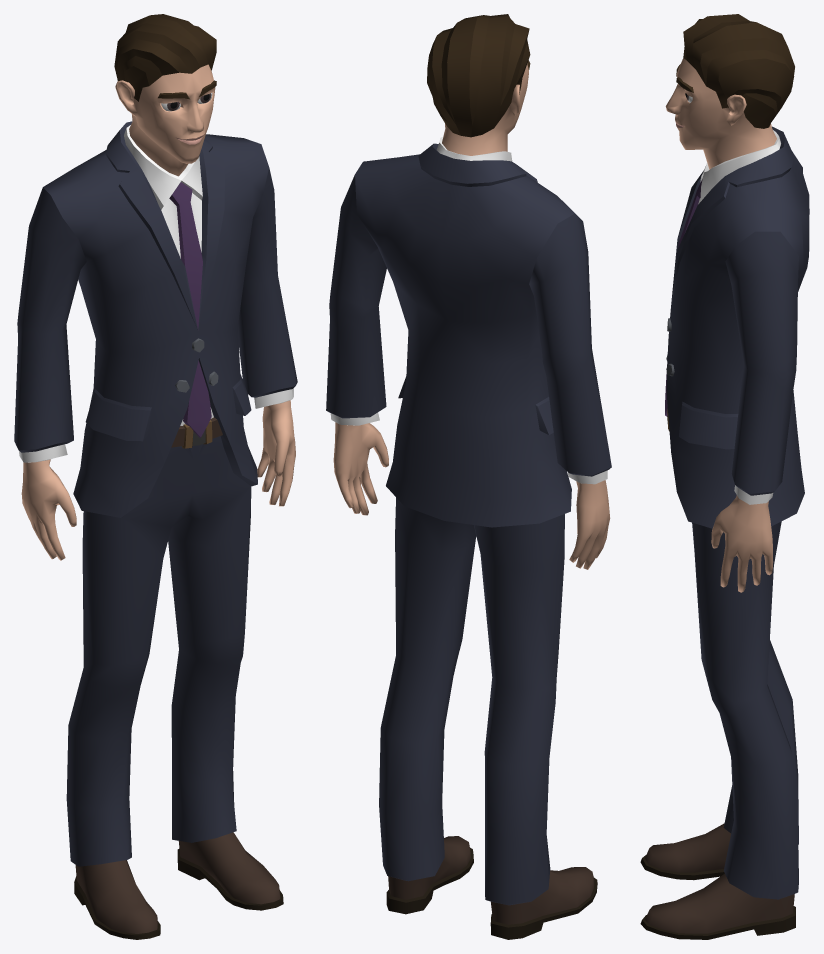
File: employee.glb
3 views of the same model, side by side, from view 1: azimuth 30°, elevation 25°; view 2: azimuth 150°, elevation 25°; view 3: azimuth 270°, elevation 25° (orthographic).
Parts seen in each view (by area): view 1: man_in_suit; view 2: man_in_suit; view 3: man_in_suit.
Part boxes in pixels (box(x1,y1,x2,y2)): man_in_suit: box(14, 14, 297, 939); man_in_suit: box(326, 14, 611, 939); man_in_suit: box(640, 14, 809, 939).
Size of the model in its own units: 59.45 by 178 by 31.12.
